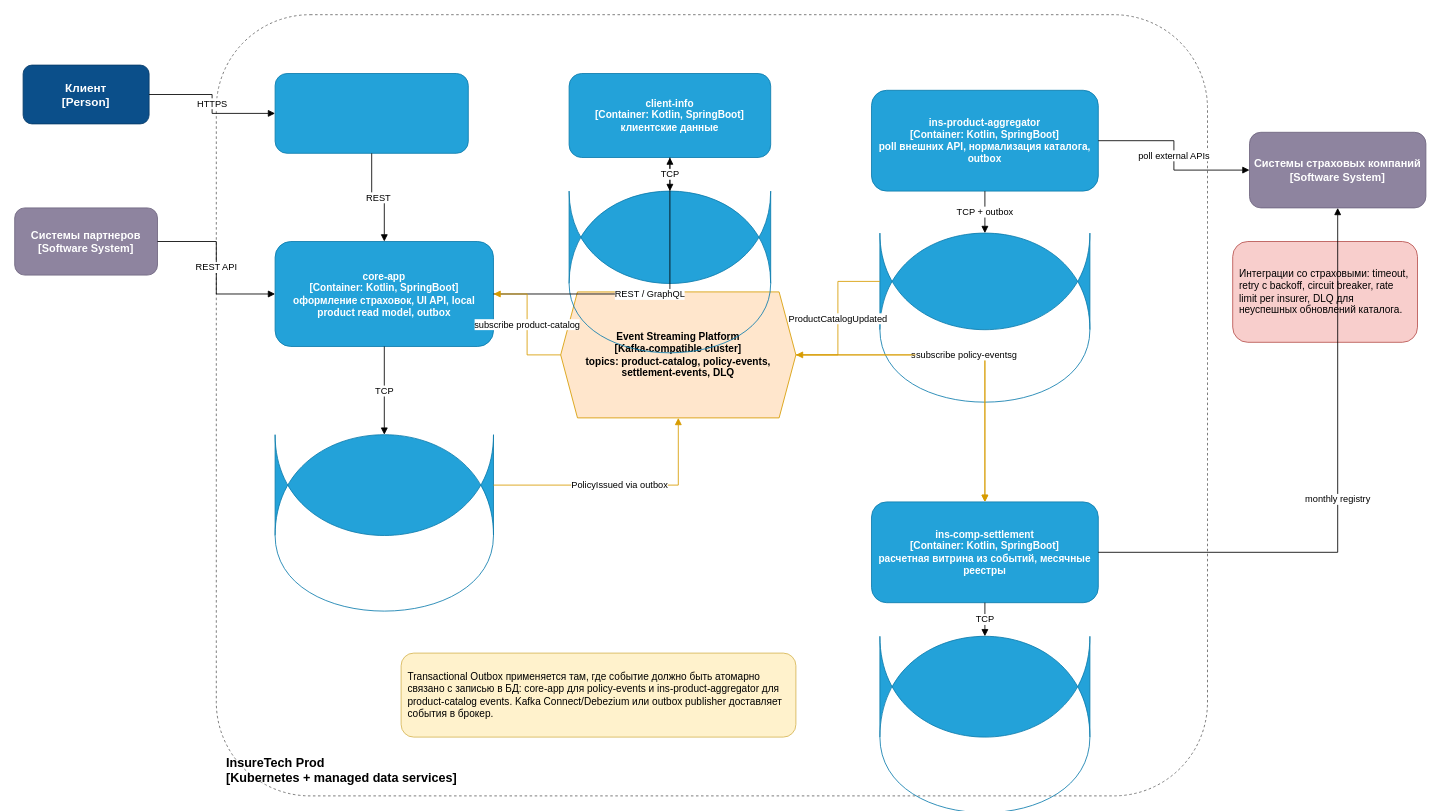
Some shapes in this 1441 by 811 pixel diagram are drawn without their labels. The box of each missing label's shape, as (x1, y1, x2, y2) in pixels:
client-info-db [PostgreSQL] clients, documents, relatives: (568, 190, 771, 284)
core-db [PostgreSQL] policy apps, product read model, outbox: (274, 434, 494, 536)
ins-comp-settlement-db [PostgreSQL] settlement read model and registries: (879, 635, 1090, 737)
InsureTech Web [Container: JavaScript, React]: (274, 73, 468, 153)
product-cache-db [PostgreSQL] normalized products, tariffs, outbox: (879, 232, 1090, 330)
